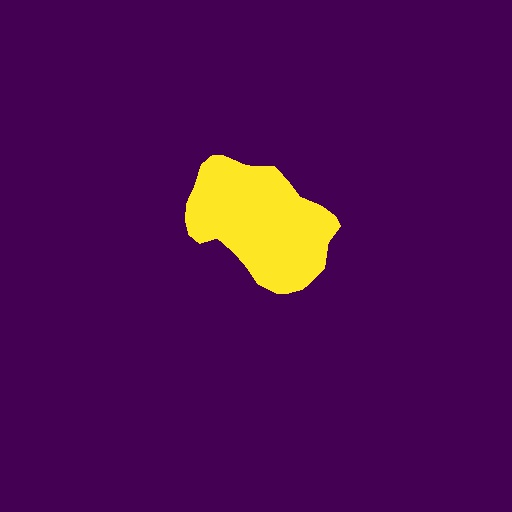Gliomia_tumour: (185, 155, 341, 294)
